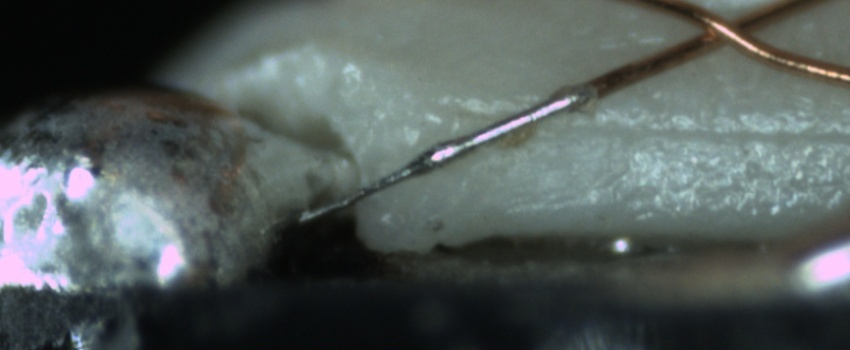CL: (677, 1, 776, 58)
DL: (463, 92, 850, 157)
TS: (299, 85, 591, 226)
TTCW: (294, 60, 641, 229)
